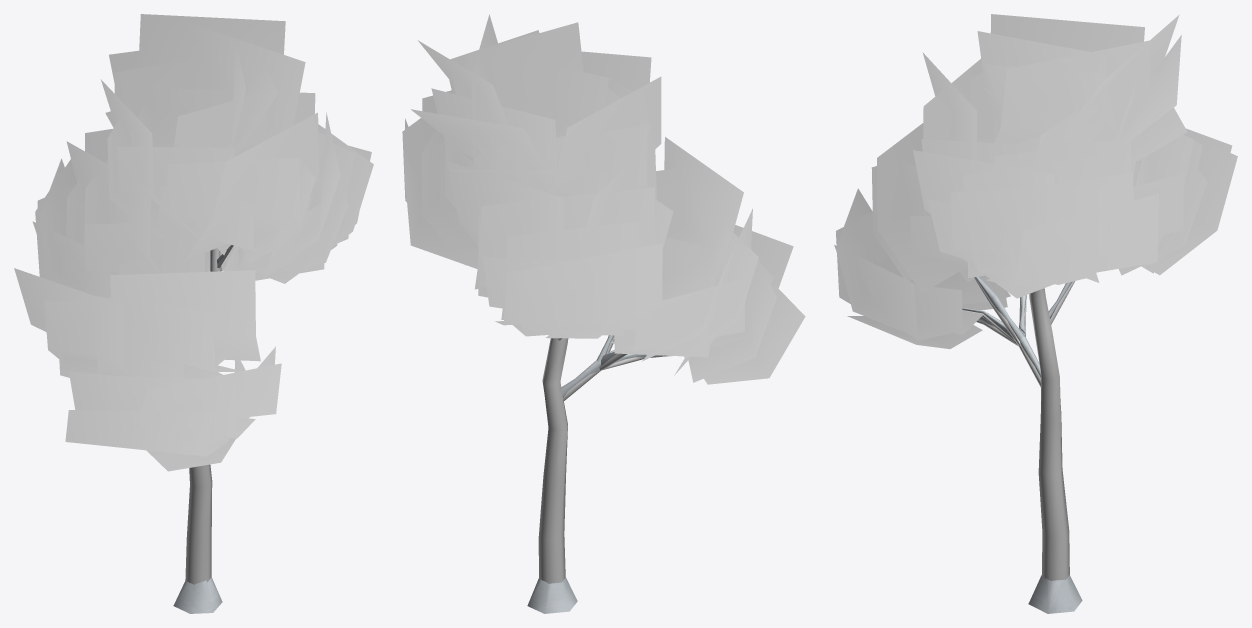
File: Tree_Small_3_Snow.fbx
3 views of the same model, side by side, from view 1: azimuth 30°, elevation 25°; view 2: azimuth 150°, elevation 25°; view 3: azimuth 270°, elevation 25° (orthographic). The views are drawn at different scales.
Visible parts, largest first — view 1: Tree_Small_3_Snow_LOD0, Tree_Small_3_Snow_Colider; view 2: Tree_Small_3_Snow_LOD0, Tree_Small_3_Snow_Colider; view 3: Tree_Small_3_Snow_LOD0, Tree_Small_3_Snow_Colider.
Boxes of the visible parts, x1=… form: Tree_Small_3_Snow_LOD0: x1=14, y1=14, x2=373, y2=613; Tree_Small_3_Snow_Colider: x1=185, y1=464, x2=212, y2=584; Tree_Small_3_Snow_LOD0: x1=402, y1=14, x2=805, y2=613; Tree_Small_3_Snow_Colider: x1=538, y1=381, x2=567, y2=583; Tree_Small_3_Snow_LOD0: x1=834, y1=14, x2=1237, y2=613; Tree_Small_3_Snow_Colider: x1=1038, y1=374, x2=1069, y2=580.
Size of what is drawn, in the model's own units: 628 by 948 by 589.
